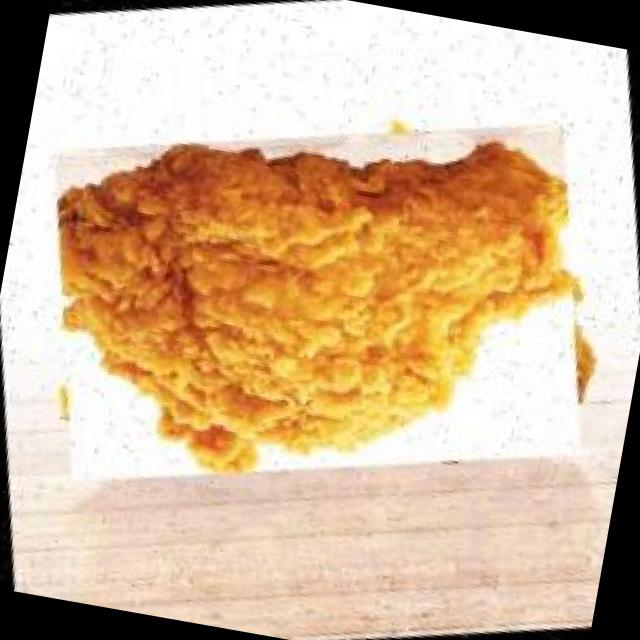fried_chicken: (0, 37, 637, 568)
